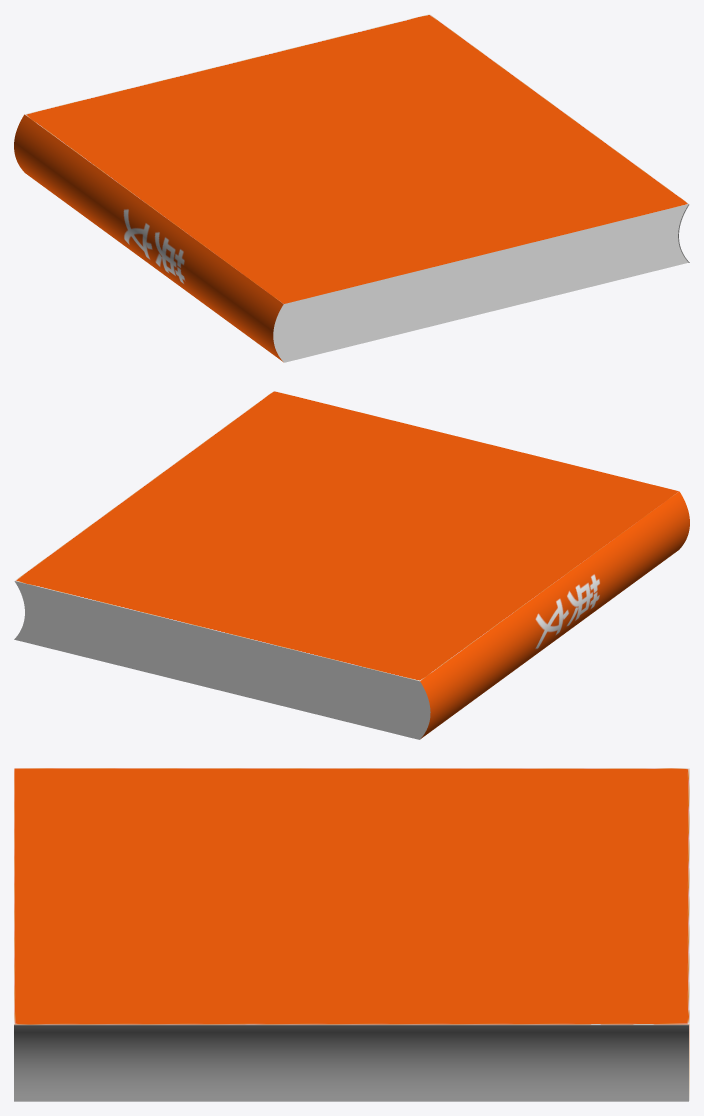
The picture shows the model from 3 angles, top to bottom: view 1: azimuth 30°, elevation 25°; view 2: azimuth 150°, elevation 25°; view 3: azimuth 270°, elevation 25°; orthographic projection. The views are drawn at different scales.
Parts seen in each view (by area): view 1: Arc001; view 2: Arc001; view 3: Arc001, Arc002.
Boxes of the visible parts, x1,y1,x2,y2 form: Arc001: (14,14,688,362); Arc001: (14,391,689,739); Arc001: (14,768,689,1100); Arc002: (14,1024,688,1101).
Size of the model in its own units: 8.7 by 1.2 by 9.39.
Materials: 2 (1 with a texture image).
